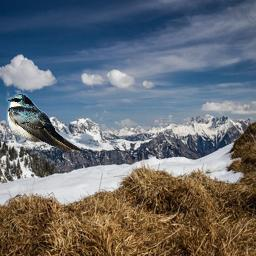Swallow: (6, 93, 83, 153)
